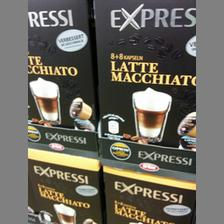Kaffee: (94, 1, 195, 172), (28, 0, 96, 158), (27, 147, 100, 223), (101, 165, 195, 223)
